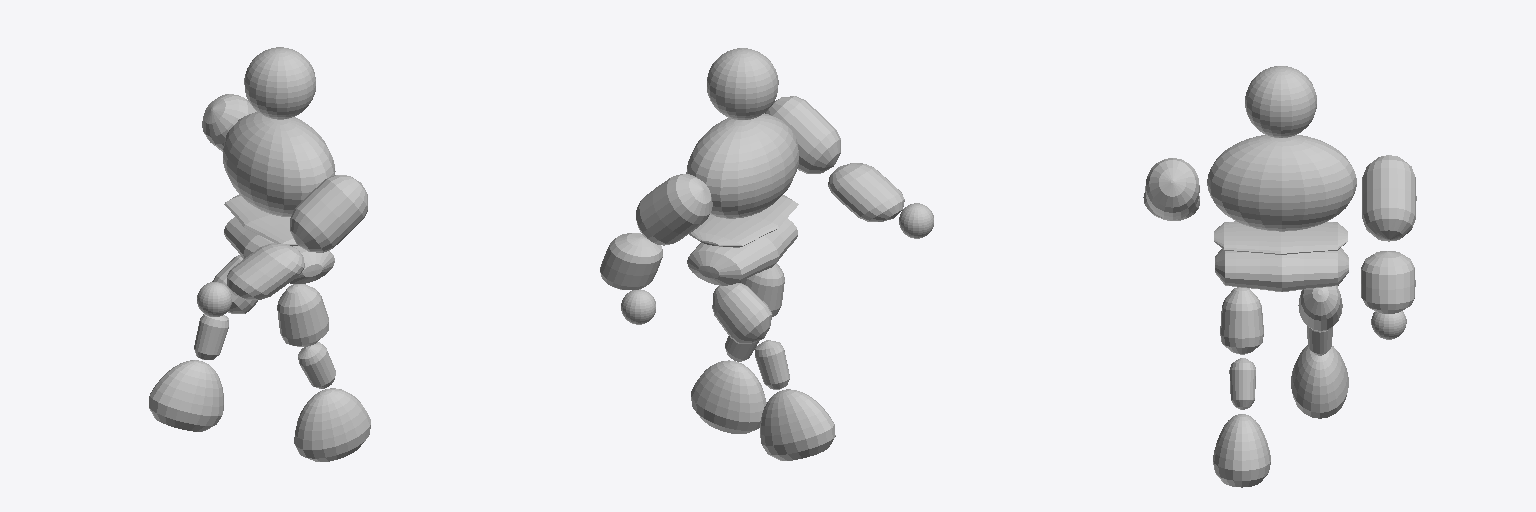
File: PTwo5.obj
3 renders of one model, left to right at view 1: azimuth 30°, elevation 25°; view 2: azimuth 150°, elevation 25°; view 3: azimuth 270°, elevation 25°, orthographic.
Visible parts, largest first — view 1: pSphere1 polySurface1, group3 pasted__group pasted__pasted__pSphere1 polySurface1, pCylinder2 polySurface1, group7 pasted__group3 pasted__pasted__group pasted__pasted__past, pSphere3 polySurface1, group15 pasted__group14 pasted__pasted__group13 pasted__pasted__, group6 pasted__group5 pasted__pasted__group4 pasted__pasted__pas, pCylinder1 polySurface1, group11 pasted__pCylinder1 polySurface1, group12 pasted__pCylinder2 polySurface1, group8 pasted__group4 pasted__pasted__pCylinder1 polySurface1, group9 pasted__group8 pasted__pasted__group4 pasted__pasted__pas (+2 smaller); view 2: pSphere1 polySurface1, group3 pasted__group pasted__pasted__pSphere1 polySurface1, group7 pasted__group3 pasted__pasted__group pasted__pasted__past, pSphere3 polySurface1, group12 pasted__pCylinder2 polySurface1, pCylinder1 polySurface1, pCylinder2 polySurface1, group15 pasted__group14 pasted__pasted__group13 pasted__pasted__, group14 pasted__group13 pasted__pasted__pCylinder2 polySurface1, group10 pasted__group6 pasted__pasted__group5 pasted__pasted__pa, group11 pasted__pCylinder1 polySurface1, group9 pasted__group8 pasted__pasted__group4 pasted__pasted__pas (+3 smaller); view 3: pSphere1 polySurface1, pCylinder1 polySurface1, pSphere3 polySurface1, group12 pasted__pCylinder2 polySurface1, group11 pasted__pCylinder1 polySurface1, group3 pasted__group pasted__pasted__pSphere1 polySurface1, group7 pasted__group3 pasted__pasted__group pasted__pasted__past, group14 pasted__group13 pasted__pasted__pCylinder2 polySurface1, pCylinder2 polySurface1, group6 pasted__group5 pasted__pasted__group4 pasted__pasted__pas, group10 pasted__group6 pasted__pasted__group5 pasted__pasted__pa, group8 pasted__group4 pasted__pasted__pCylinder1 polySurface1 (+2 smaller).
Boxes of the visible parts, box(x1,y1,x2,y2) form: pSphere1 polySurface1: box(223, 112, 335, 216); group3 pasted__group pasted__pasted__pSphere1 polySurface1: box(294, 388, 370, 461); pCylinder2 polySurface1: box(290, 175, 367, 252); group7 pasted__group3 pasted__pasted__group pasted__pasted__past: box(149, 360, 223, 431); pSphere3 polySurface1: box(244, 47, 315, 119); group15 pasted__group14 pasted__pasted__group13 pasted__pasted__: box(227, 243, 304, 299); group6 pasted__group5 pasted__pasted__group4 pasted__pasted__pas: box(277, 284, 328, 346); pCylinder1 polySurface1: box(224, 217, 334, 283); group11 pasted__pCylinder1 polySurface1: box(224, 194, 297, 246); group12 pasted__pCylinder2 polySurface1: box(202, 94, 256, 151); group8 pasted__group4 pasted__pasted__pCylinder1 polySurface1: box(298, 342, 335, 388); group9 pasted__group8 pasted__pasted__group4 pasted__pasted__pas: box(194, 314, 228, 359); pSphere1 polySurface1: box(686, 113, 798, 218); group3 pasted__group pasted__pasted__pSphere1 polySurface1: box(691, 360, 766, 433); group7 pasted__group3 pasted__pasted__group pasted__pasted__past: box(760, 389, 835, 460); pSphere3 polySurface1: box(707, 48, 778, 119); group12 pasted__pCylinder2 polySurface1: box(636, 174, 712, 245); pCylinder1 polySurface1: box(687, 218, 797, 285); pCylinder2 polySurface1: box(765, 96, 840, 173); group15 pasted__group14 pasted__pasted__group13 pasted__pasted__: box(828, 163, 904, 221); group14 pasted__group13 pasted__pasted__pCylinder2 polySurface1: box(600, 233, 662, 289); group10 pasted__group6 pasted__pasted__group5 pasted__pasted__pa: box(712, 283, 772, 343); group11 pasted__pCylinder1 polySurface1: box(689, 195, 798, 247); group9 pasted__group8 pasted__pasted__group4 pasted__pasted__pas: box(755, 340, 789, 389); pSphere1 polySurface1: box(1207, 135, 1356, 231); pCylinder1 polySurface1: box(1215, 248, 1348, 291); pSphere3 polySurface1: box(1245, 66, 1316, 137); group12 pasted__pCylinder2 polySurface1: box(1362, 155, 1416, 241); group11 pasted__pCylinder1 polySurface1: box(1214, 221, 1347, 254); group3 pasted__group pasted__pasted__pSphere1 polySurface1: box(1213, 414, 1270, 487); group7 pasted__group3 pasted__pasted__group pasted__pasted__past: box(1291, 345, 1348, 418); group14 pasted__group13 pasted__pasted__pCylinder2 polySurface1: box(1361, 251, 1415, 313); pCylinder2 polySurface1: box(1145, 158, 1199, 219); group6 pasted__group5 pasted__pasted__group4 pasted__pasted__pas: box(1220, 287, 1263, 354); group10 pasted__group6 pasted__pasted__group5 pasted__pasted__pa: box(1298, 286, 1342, 331); group8 pasted__group4 pasted__pasted__pCylinder1 polySurface1: box(1229, 358, 1255, 409).
Bounding box in the file's own units: 3.76 × 6.48 × 4.03.